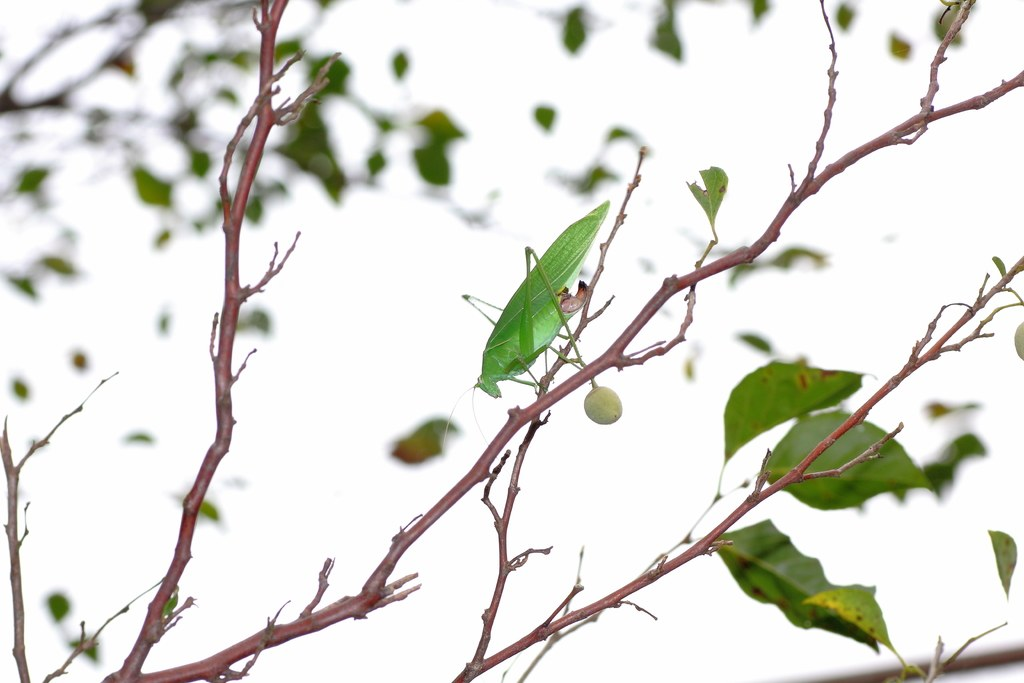insect: (99, 13, 1024, 683), (461, 202, 610, 427)
